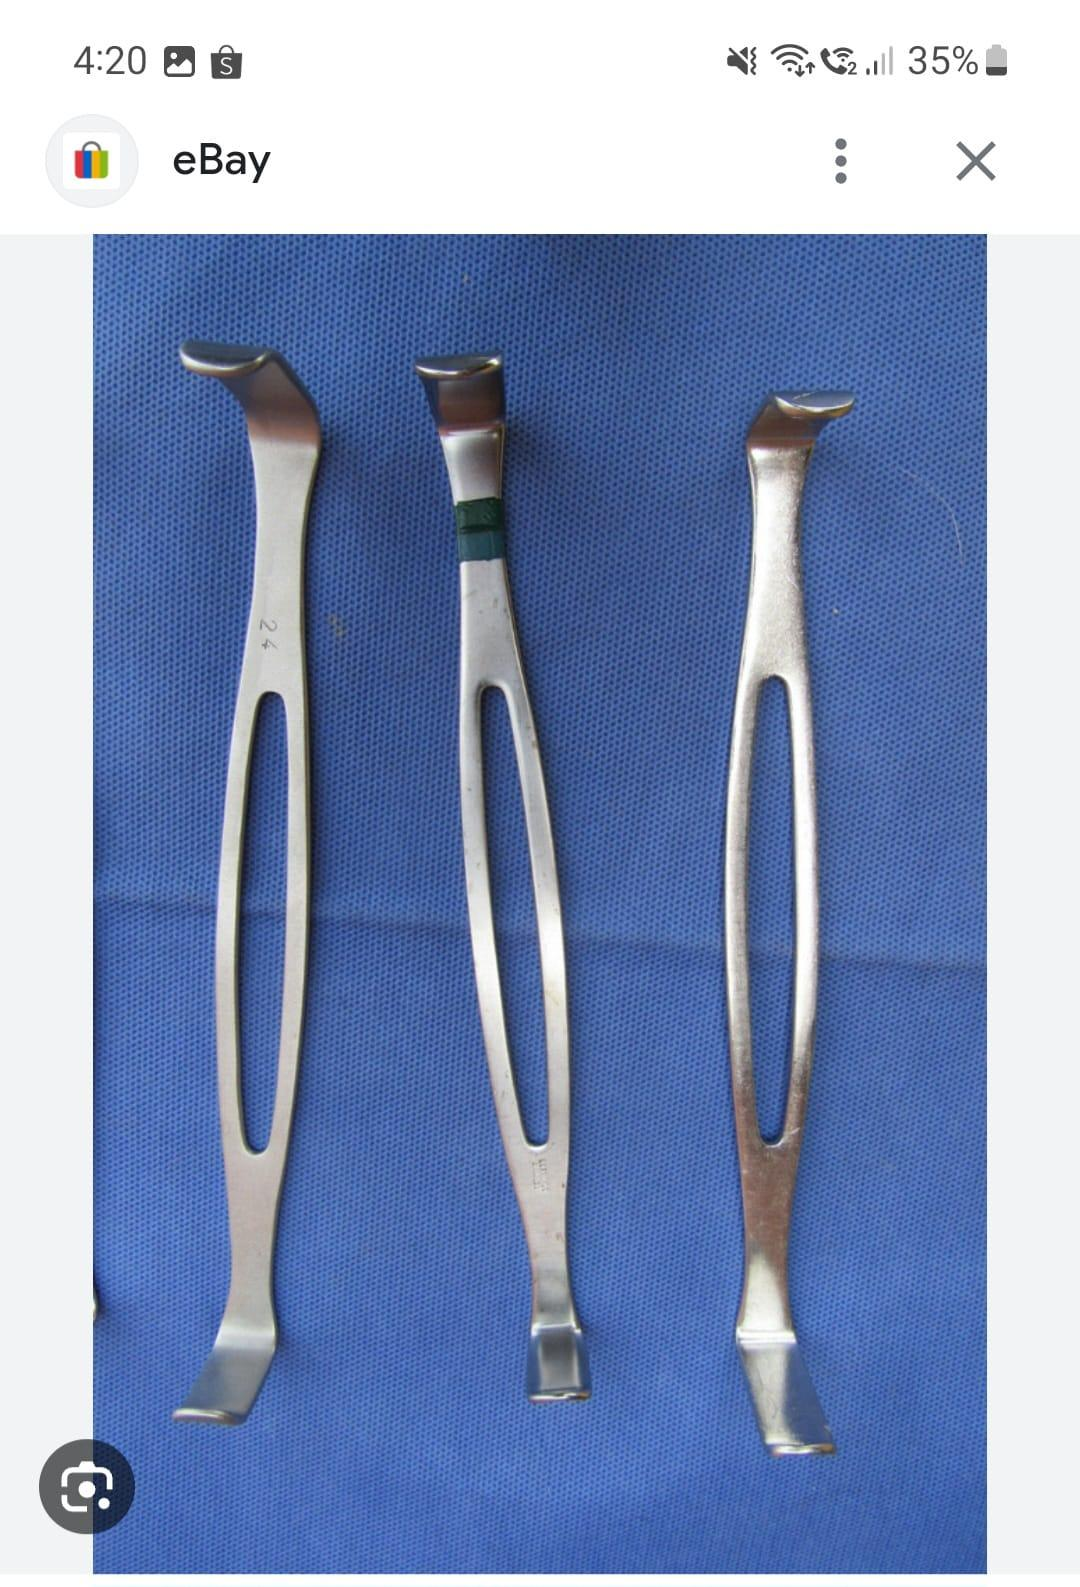Army Navy Retractor: (387, 330, 657, 1440), (677, 377, 935, 1491), (135, 310, 370, 1422)
